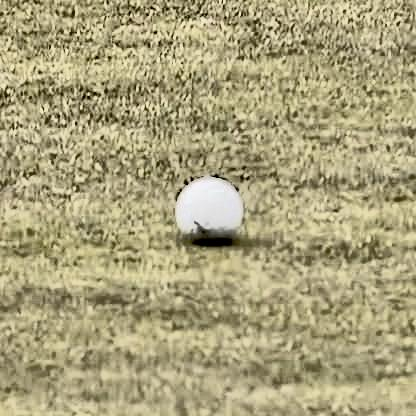golfball: (175, 172, 238, 237)
